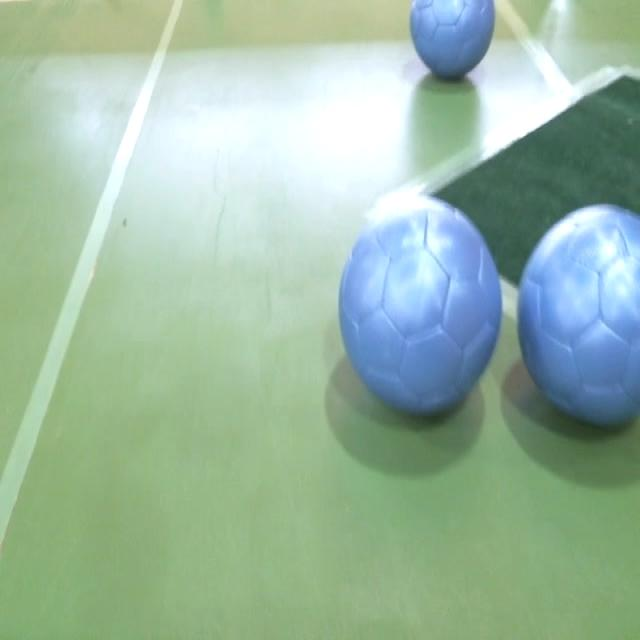blue_ball: (338, 197, 500, 420), (518, 205, 640, 431), (410, 0, 496, 77)
